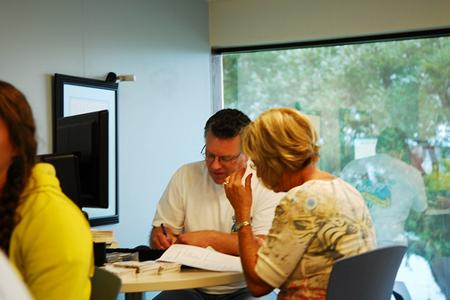person: (151, 110, 281, 261)
